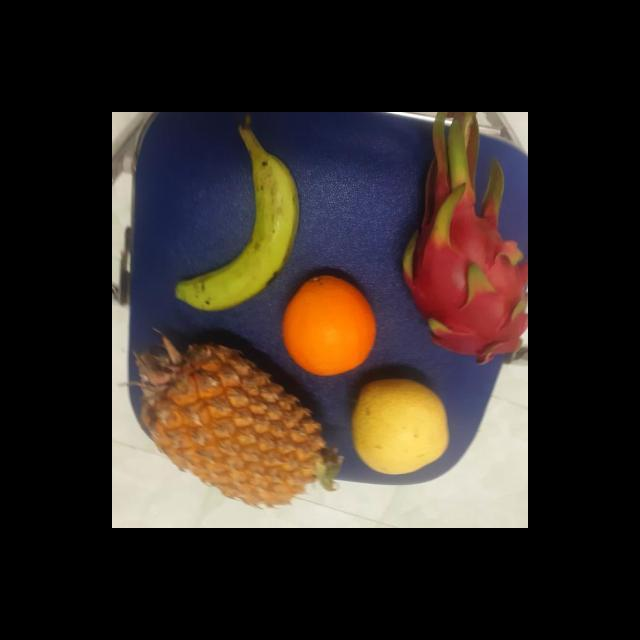banana: (175, 151, 303, 312)
orange: (282, 276, 381, 376)
pear: (350, 374, 452, 478)
pineapple: (144, 339, 336, 512)
pitaya: (402, 167, 528, 363)
